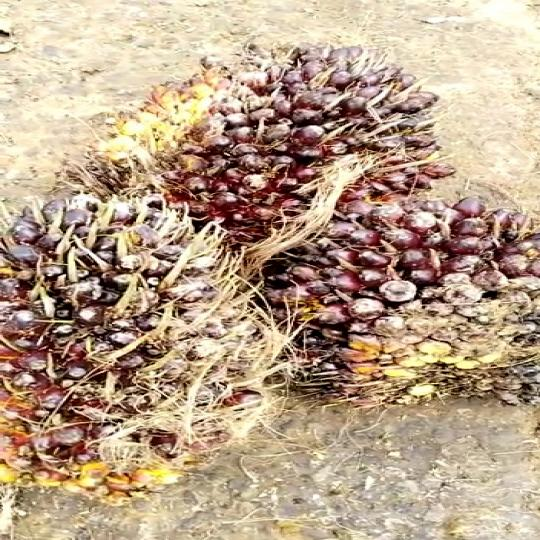kurang masak: (0, 172, 253, 524), (118, 33, 440, 233), (266, 178, 540, 411)
